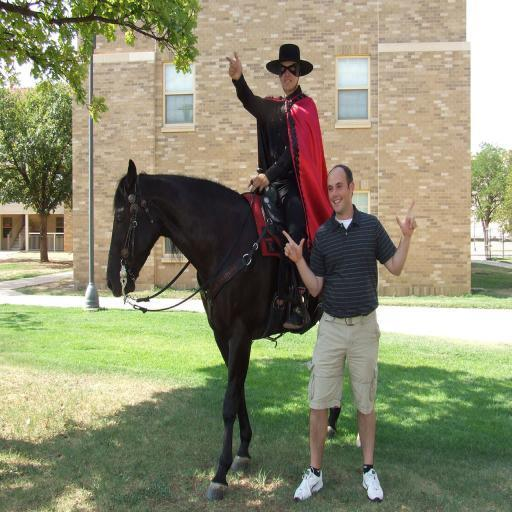horse: (105, 162, 341, 500)
